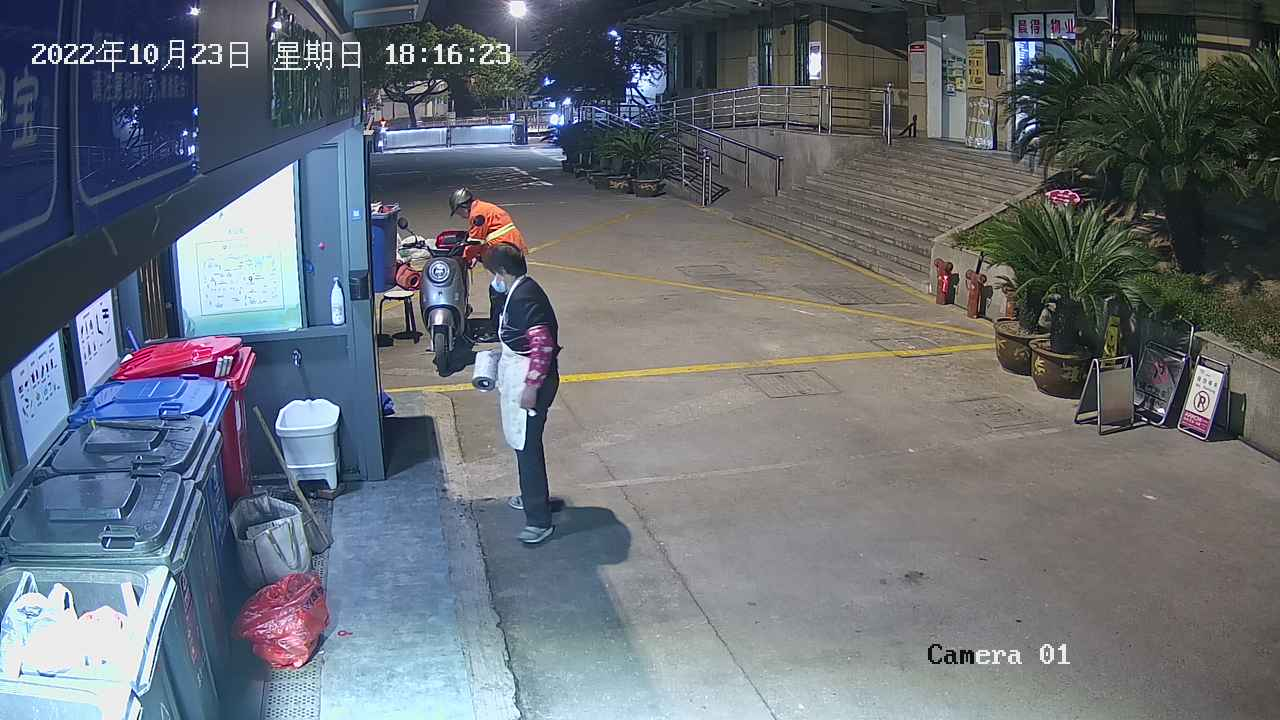garbage-bag: (227, 569, 331, 670)
person: (484, 241, 566, 545)
worker: (447, 185, 531, 269)
